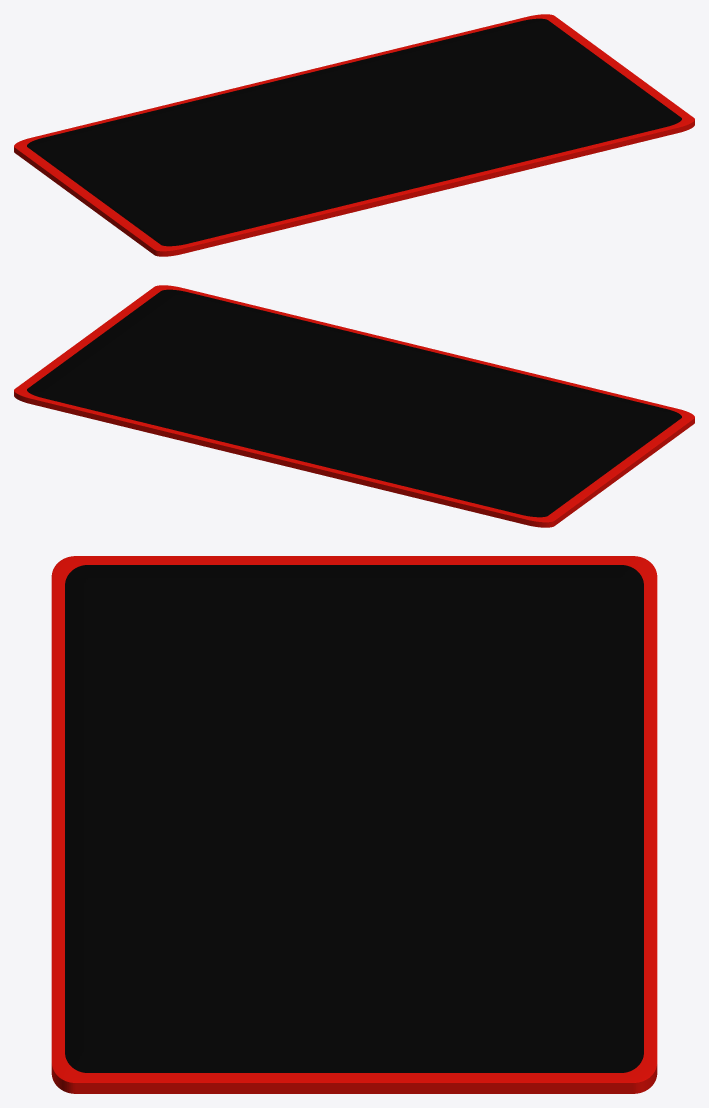
Rendered from longpad.glb.
3 renders of one model, top to bottom at view 1: azimuth 30°, elevation 25°; view 2: azimuth 150°, elevation 25°; view 3: azimuth 270°, elevation 25°, orthographic. The views are drawn at different scales.
Parts seen in each view (by area): view 1: Cube.002_0; view 2: Cube.002_0; view 3: Cube.002_0.
Part boxes in pixels (left/top/right/bottom): Cube.002_0: left=14, top=14, right=694, bottom=256; Cube.002_0: left=14, top=285, right=694, bottom=527; Cube.002_0: left=51, top=556, right=657, bottom=1093.
Bounding box in the file's own units: 0.28 × 0.0031 × 0.136.
